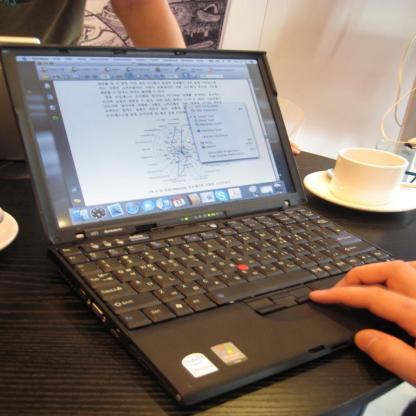board: (22, 29, 383, 416)
